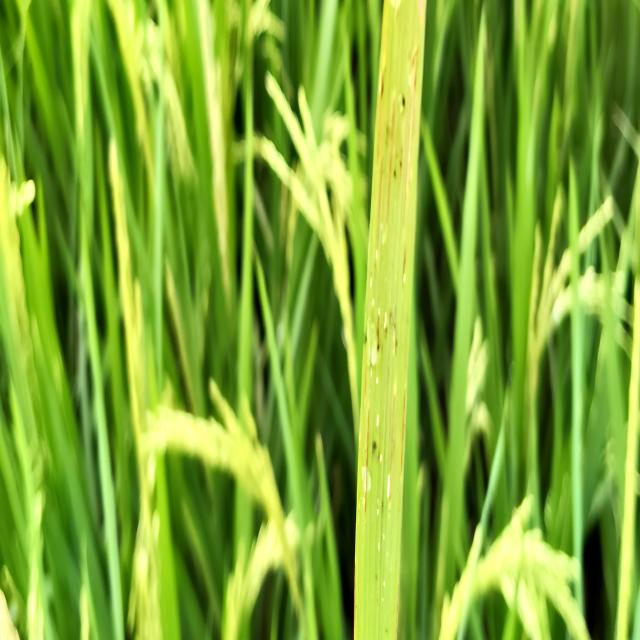NBS: (404, 52, 418, 223), (387, 108, 394, 222), (364, 409, 370, 519), (377, 162, 382, 246), (401, 391, 405, 470), (395, 583, 399, 640), (354, 564, 356, 640), (380, 67, 384, 105), (402, 251, 406, 286), (377, 134, 380, 164), (377, 318, 379, 352), (365, 368, 367, 395)
